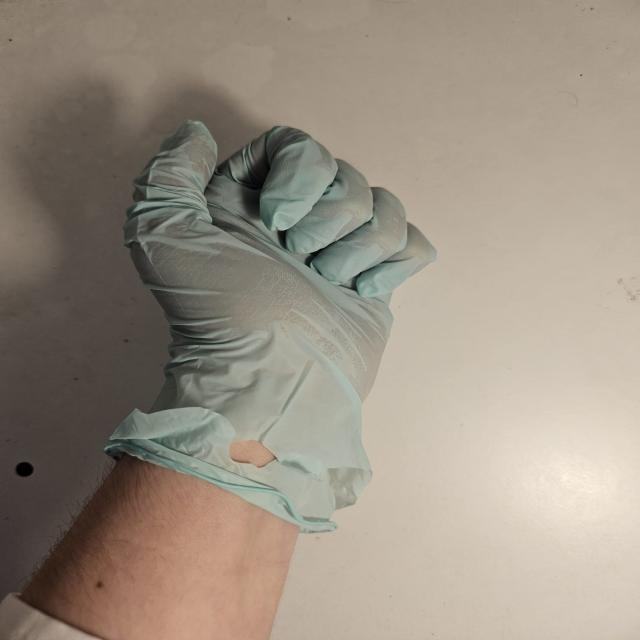gloves_damaged: (100, 116, 438, 533)
